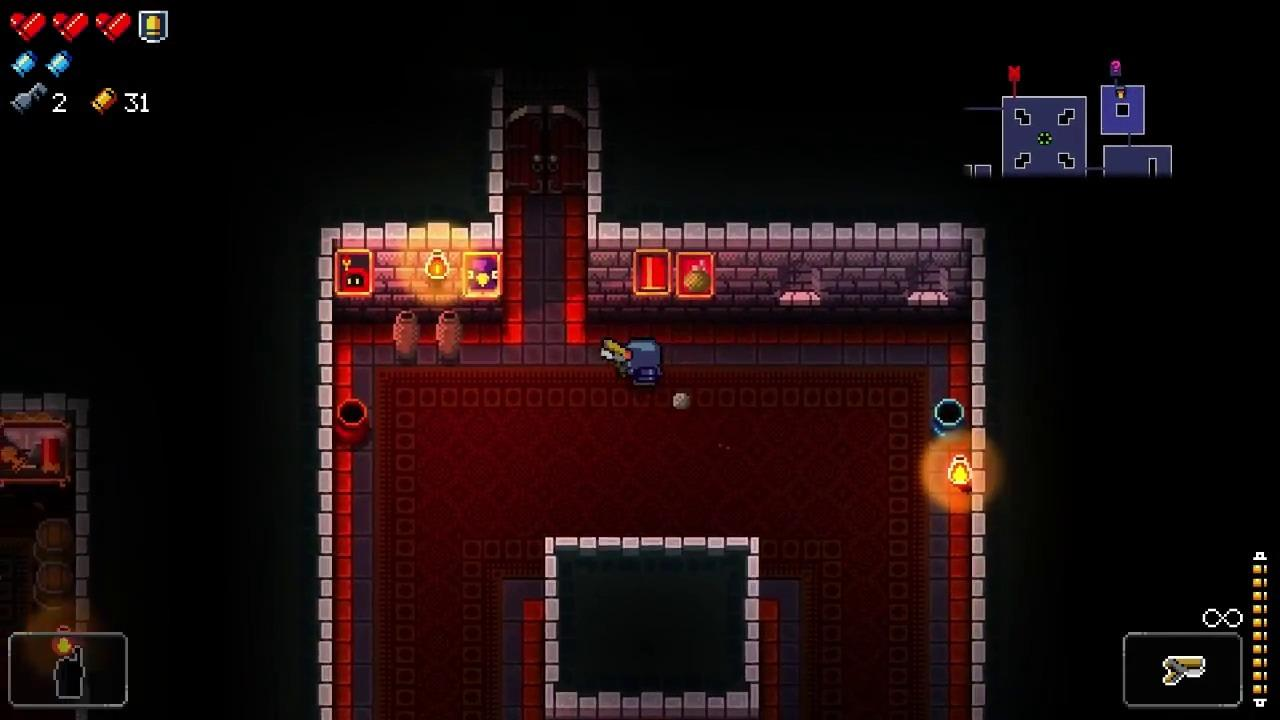player: (627, 339, 664, 386)
unlocked_door: (502, 106, 588, 195)
